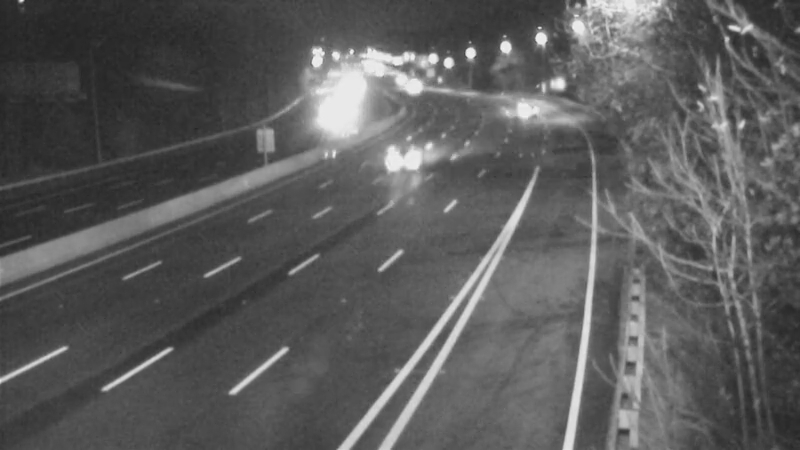vehicle: (359, 120, 439, 200), (390, 64, 440, 114), (500, 84, 550, 134)
